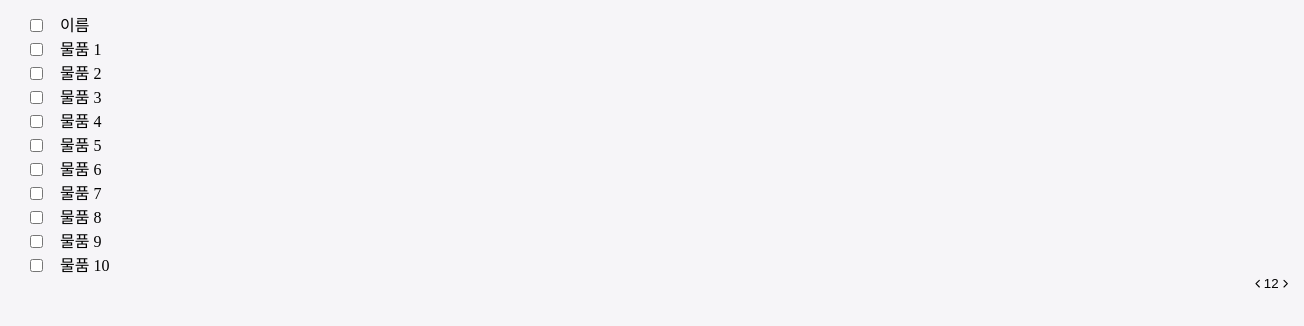
Table › 선택은 쪽을 넘어도 유지하고, 머리글 체크박스는 현재 쪽만 넣고 뺀다
Click the checkbox named "물품 1 선택": (36, 49) [30,43,42,56]
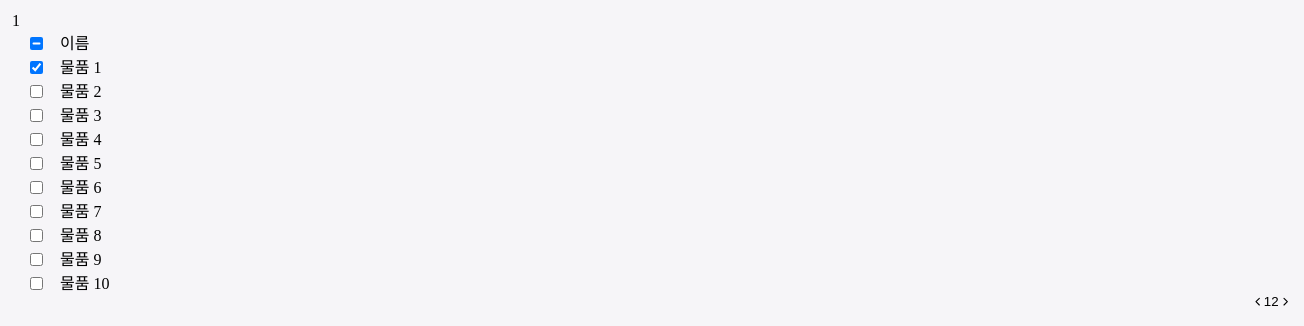
Click the button named "2 페이지": (1275, 302) [1271,294,1279,309]
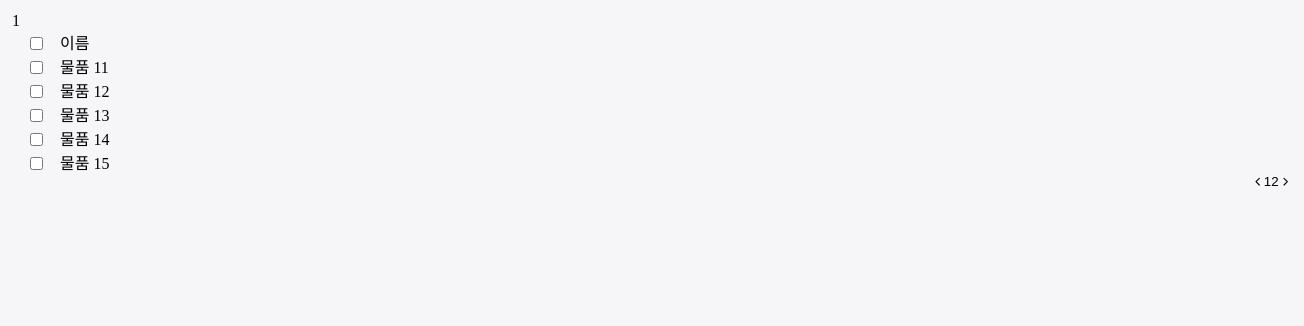
Click the checkbox named "현재 페이지 전체 선택": (36, 43) [30,37,42,50]
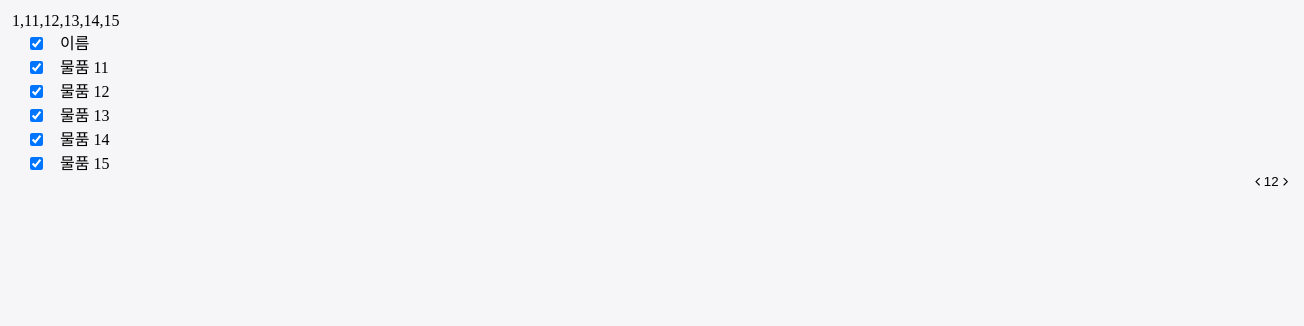
Now the text "1,11,12,13,14,15" is shown, box [12,12,119,29]
Click the button "1": (1268, 182) [1264,174,1271,189]
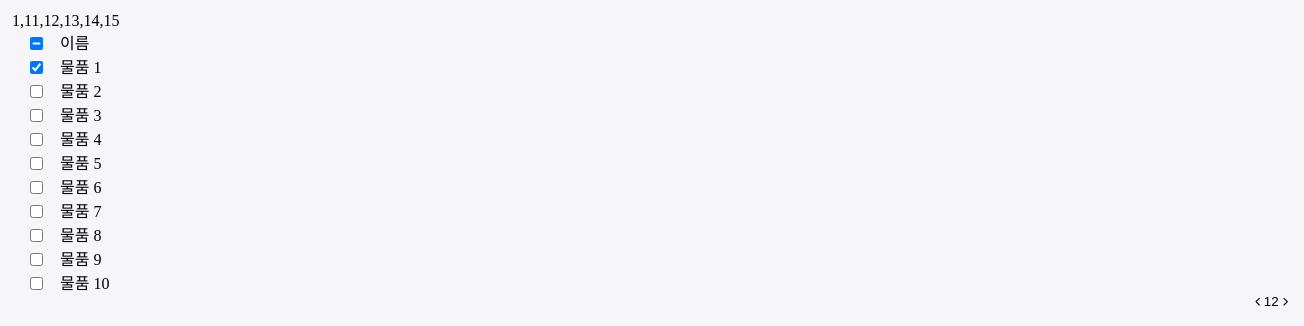
Now the checkbox named "물품 1 선택" is checked, box [30,61,42,74]
Click the checkbox named "현재 페이지 전체 선택": (36, 43) [30,37,42,50]
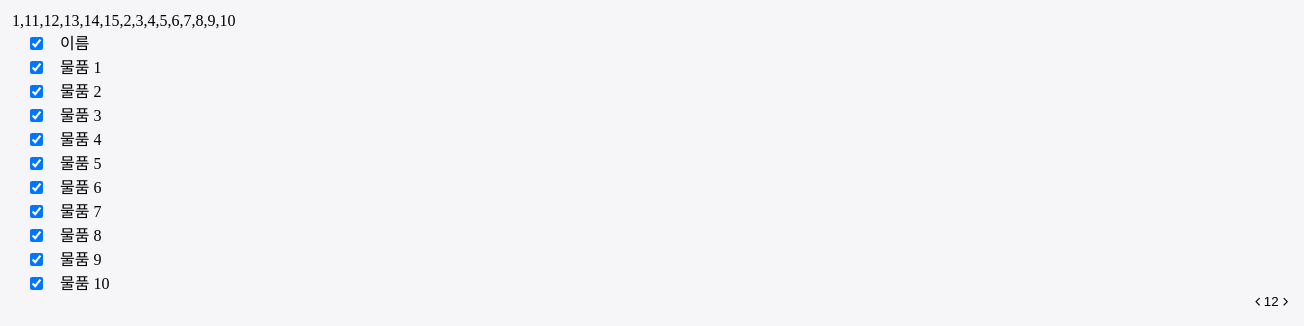
Now the checkbox named "현재 페이지 전체 선택" is checked
Click the checkbox named "현재 페이지 전체 선택": (36, 43) [30,37,42,50]
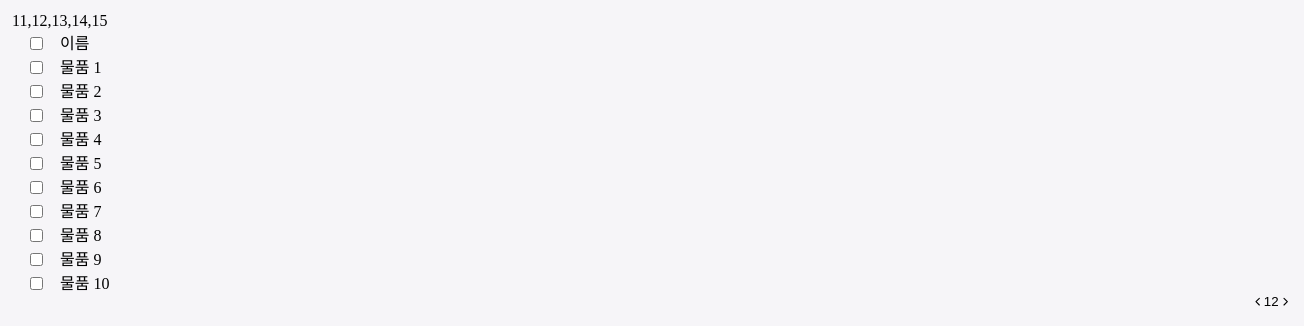
Now the text "11,12,13,14,15" is shown, box [12,12,107,29]
